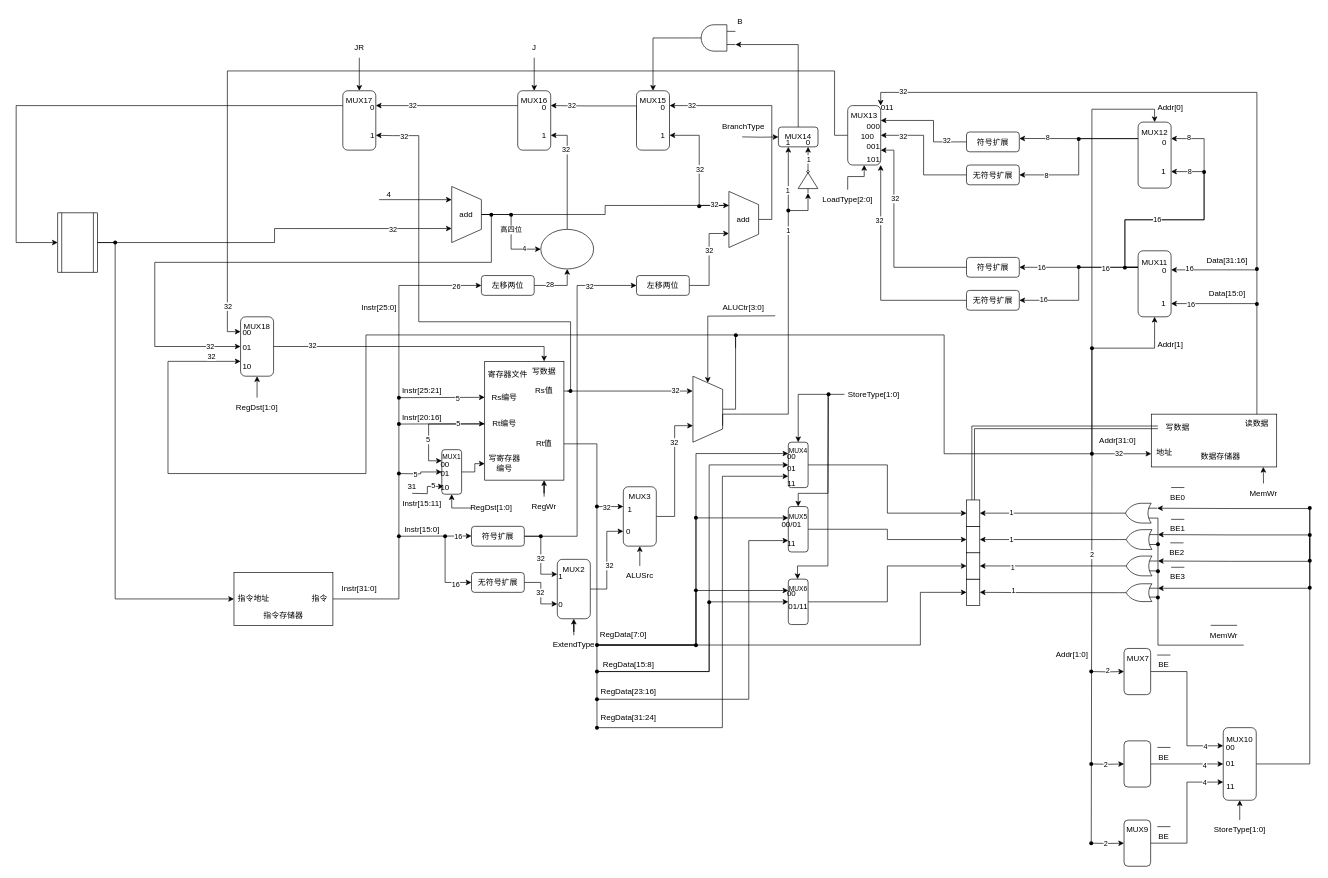
Image size: 1328x878. Some labels were removed from this diagram. Each missing label, with the centre of its shape:
"ALU" goes at pixel 707 409.
"MUX8" goes at pixel 1137 763.
"PC" goes at pixel 77 242.
"位拼接" goes at pixel 567 249.
